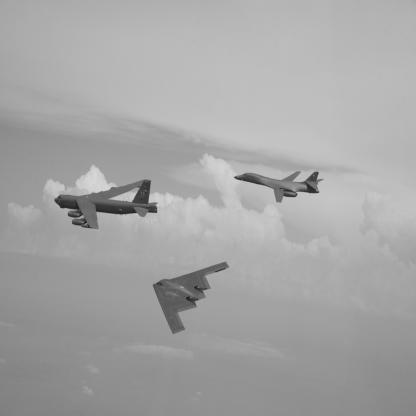B1: (235, 172, 326, 204)
B2: (153, 262, 231, 335)
B52: (55, 180, 160, 230)
